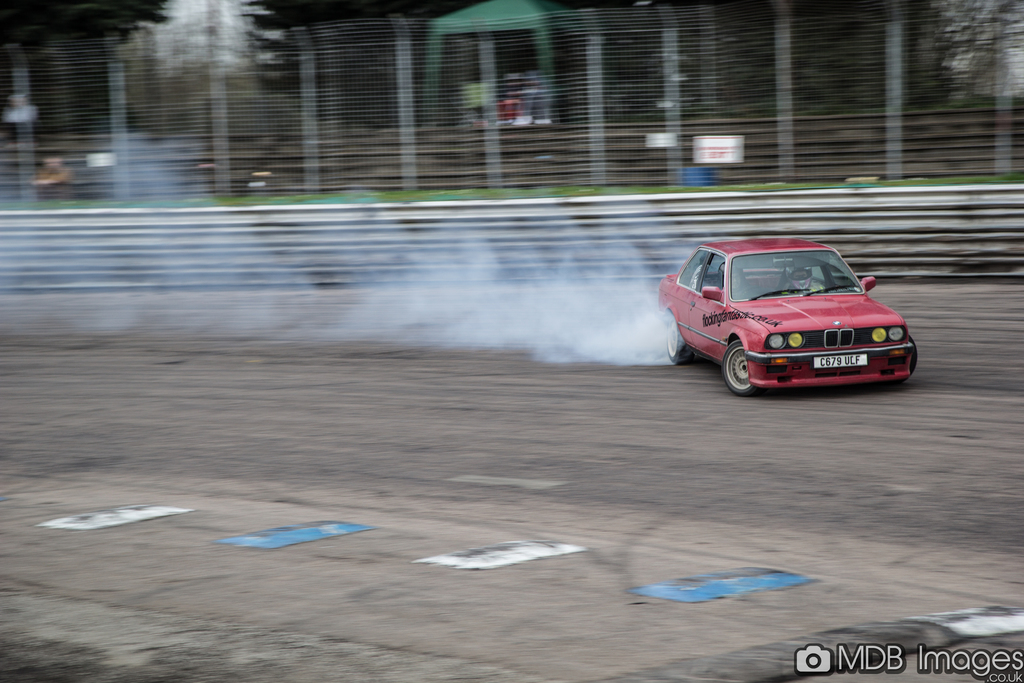Car: (657, 236, 915, 394)
